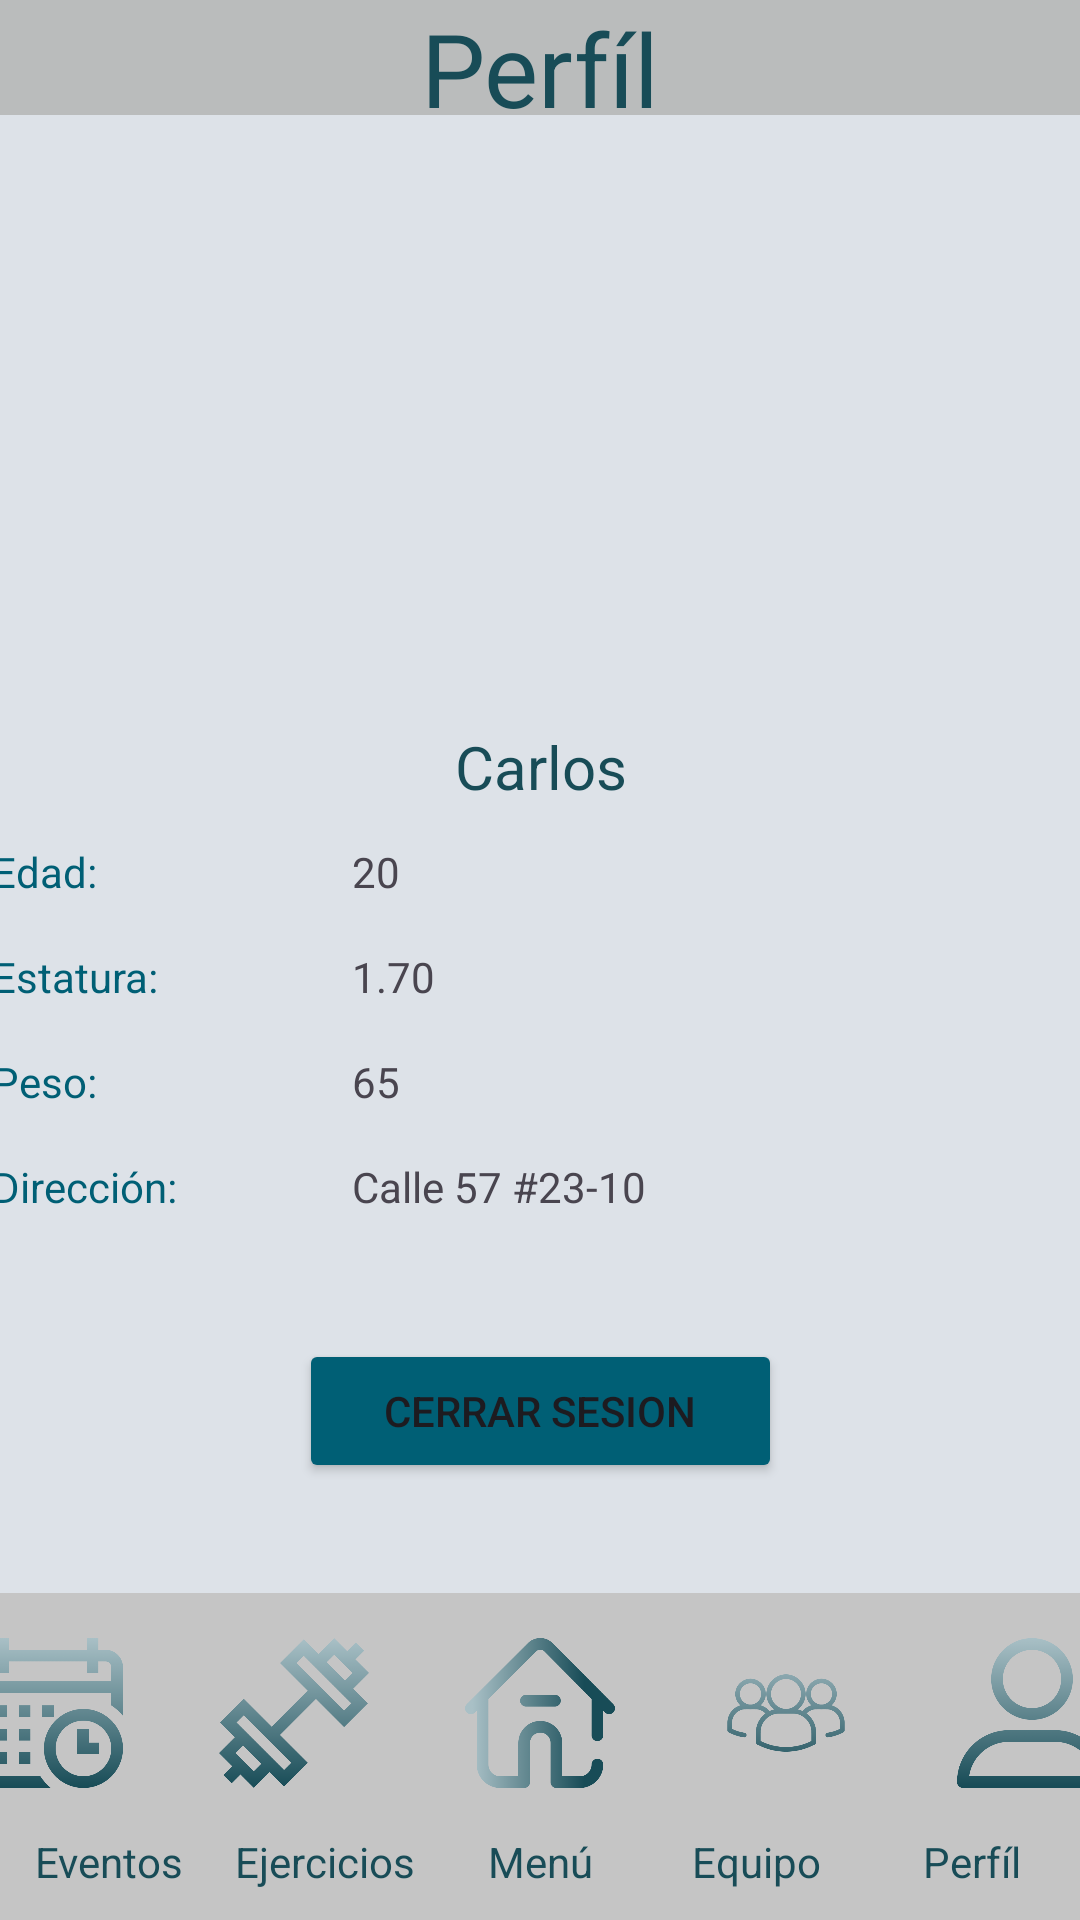

Named icons in this screenshot (1080w x 1920h) and their centers, (x,y):
grupo: (786,1713)
pesa: (294,1713)
